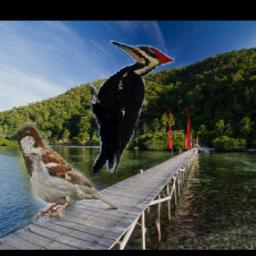Sparrow: (11, 122, 119, 222)
Woodpecker: (90, 40, 176, 174)
